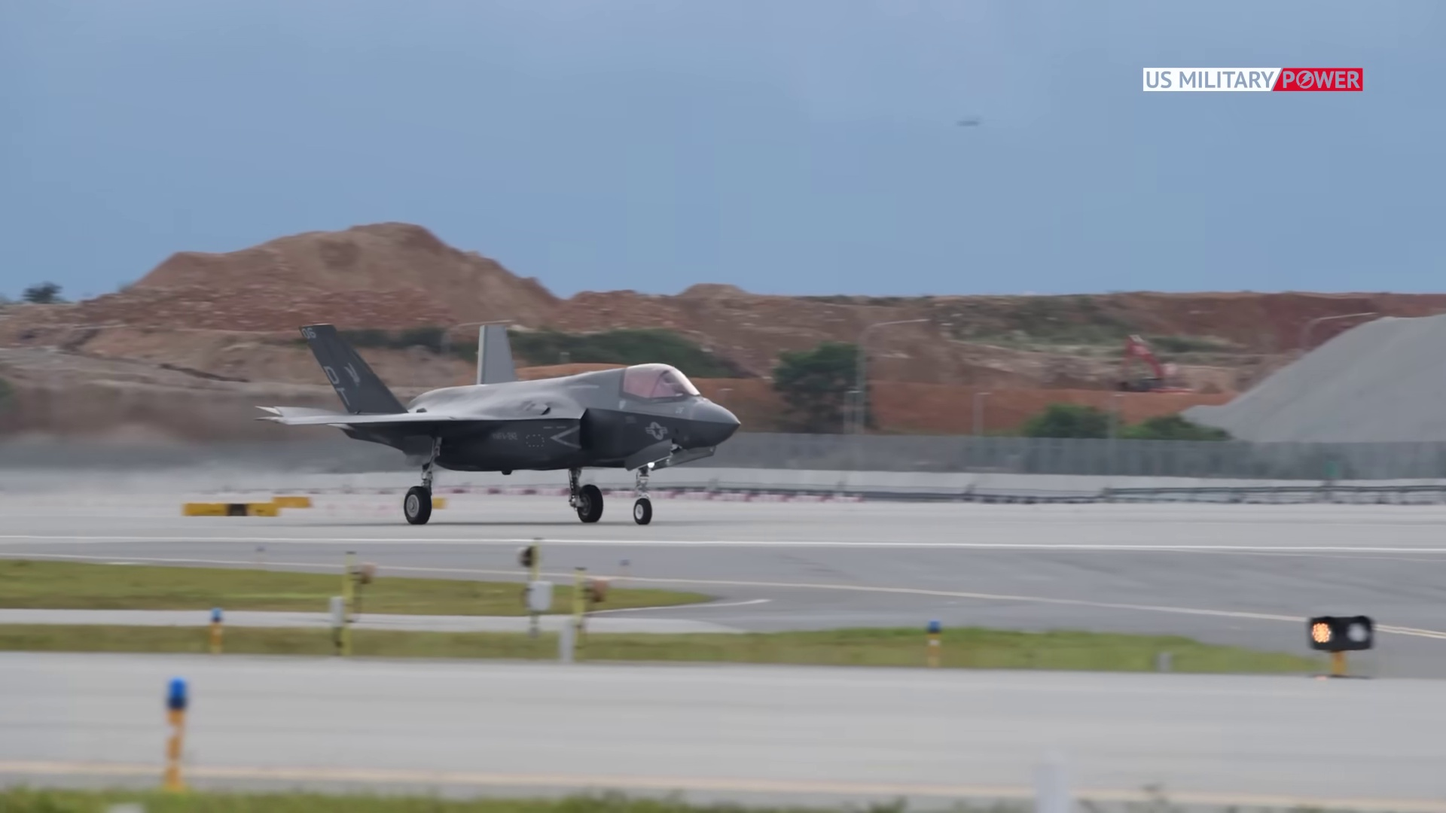F35: (250, 311, 754, 530)
